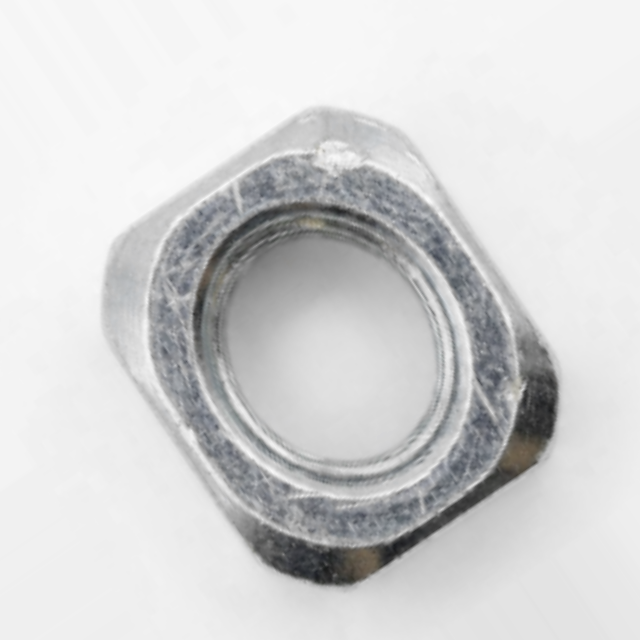defect: (489, 357, 557, 433), (297, 138, 375, 177)
